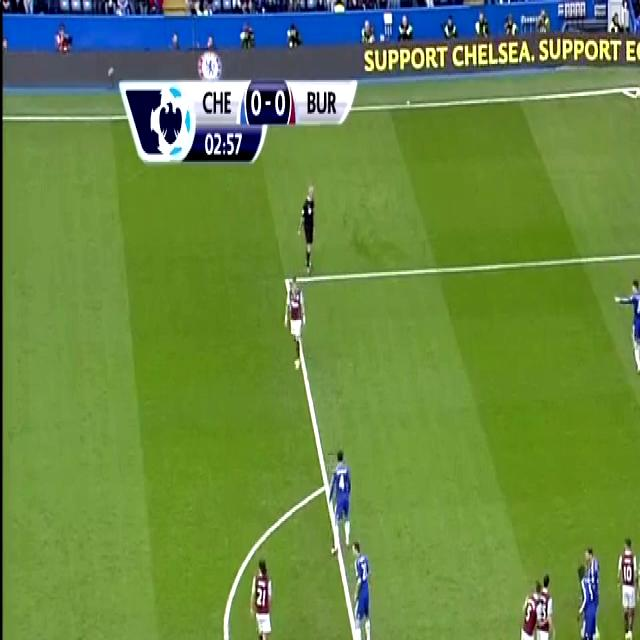ball: (628, 73, 640, 103)
referee: (292, 176, 322, 280)
soccer-player: (323, 443, 359, 557), (283, 265, 310, 379), (346, 537, 375, 640), (613, 272, 640, 377), (617, 524, 640, 640), (249, 551, 278, 640), (585, 537, 606, 640), (575, 562, 595, 640), (532, 572, 553, 640), (516, 574, 536, 640), (634, 537, 640, 640), (636, 32, 640, 105)
